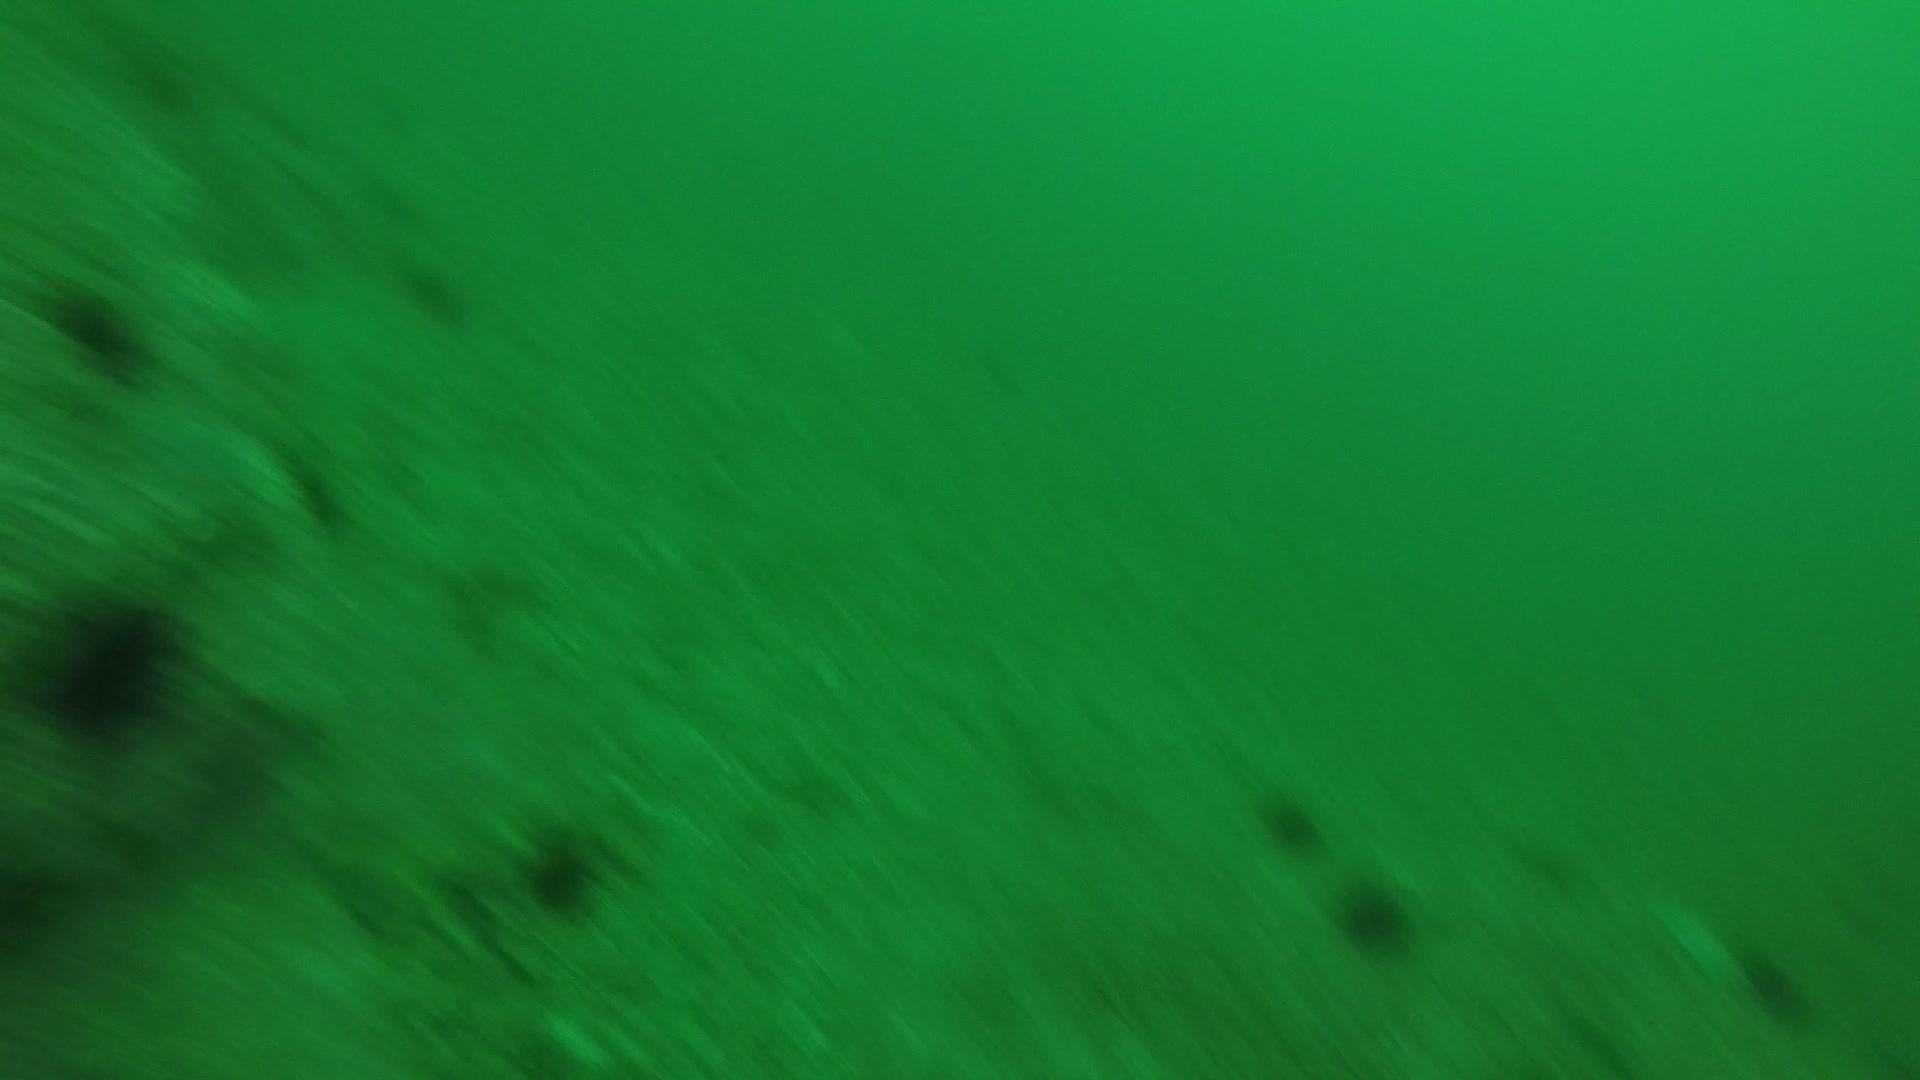echinus: (25, 588, 181, 741), (40, 277, 152, 376), (0, 852, 73, 965), (518, 825, 605, 915), (1333, 874, 1418, 956), (1734, 942, 1815, 1023), (400, 257, 473, 327), (1255, 787, 1327, 852)
